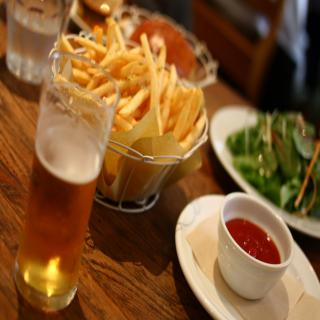French fries: (51, 13, 211, 151)
